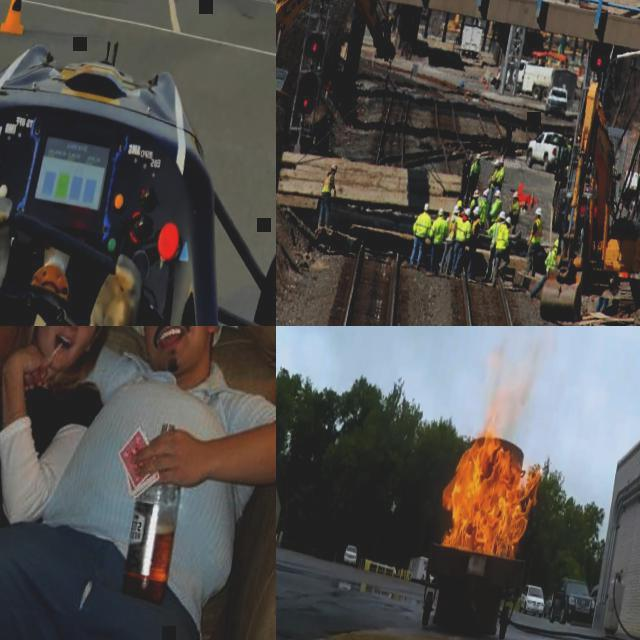helmet: (472, 188, 481, 198), (472, 204, 481, 214), (554, 236, 561, 248), (535, 207, 544, 216), (499, 210, 507, 220), (424, 202, 432, 211), (494, 189, 502, 198), (505, 216, 513, 225), (437, 208, 445, 216), (464, 208, 472, 216), (482, 190, 490, 197), (454, 205, 462, 212), (493, 160, 501, 167), (513, 190, 520, 198), (331, 163, 338, 170), (499, 156, 506, 163), (569, 136, 575, 142), (476, 153, 482, 159), (470, 154, 476, 159)
machinery: (276, 0, 416, 210), (536, 76, 640, 326)
no_mask: (142, 326, 222, 376), (30, 326, 95, 373)
no_vest: (41, 339, 265, 586), (0, 343, 97, 535), (462, 160, 472, 178)
person: (0, 326, 276, 640), (0, 326, 128, 640), (0, 193, 150, 326), (524, 232, 562, 302), (488, 210, 518, 288), (476, 208, 506, 283), (423, 206, 453, 276), (462, 204, 488, 282), (406, 200, 434, 270), (448, 208, 476, 278), (520, 205, 547, 276), (315, 162, 343, 230), (438, 208, 462, 280), (506, 188, 530, 234), (464, 152, 484, 206), (456, 152, 474, 205), (487, 189, 505, 229), (476, 188, 492, 228), (494, 154, 508, 190), (487, 158, 501, 191), (594, 294, 611, 315), (469, 188, 482, 210), (566, 136, 575, 156), (456, 198, 465, 209)
safety_cone: (1, 0, 32, 37), (528, 190, 536, 209), (484, 64, 490, 82), (485, 74, 491, 90), (480, 72, 486, 84)
vehicle: (0, 0, 276, 326), (504, 56, 580, 108), (548, 574, 600, 628), (524, 126, 574, 174), (518, 584, 548, 618), (456, 24, 484, 60), (544, 85, 572, 118), (341, 544, 360, 566), (420, 567, 438, 587), (590, 582, 600, 606), (544, 594, 554, 618)
vest: (428, 216, 452, 244), (453, 215, 473, 243), (412, 211, 432, 238), (485, 220, 503, 250), (496, 222, 514, 250), (444, 214, 461, 242), (530, 217, 546, 246), (543, 246, 559, 273), (488, 197, 504, 223), (476, 197, 490, 224), (469, 215, 484, 239), (321, 172, 334, 196), (468, 160, 482, 181), (488, 167, 499, 188), (510, 199, 522, 217), (495, 166, 506, 185), (470, 198, 478, 208), (566, 143, 573, 154)
